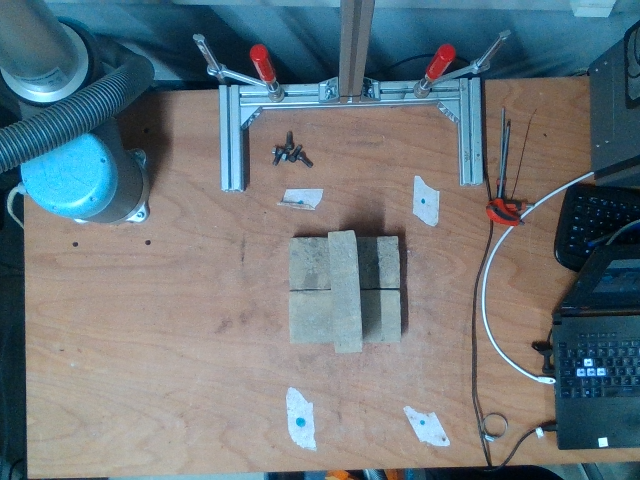brick-side: (330, 232, 363, 350)
